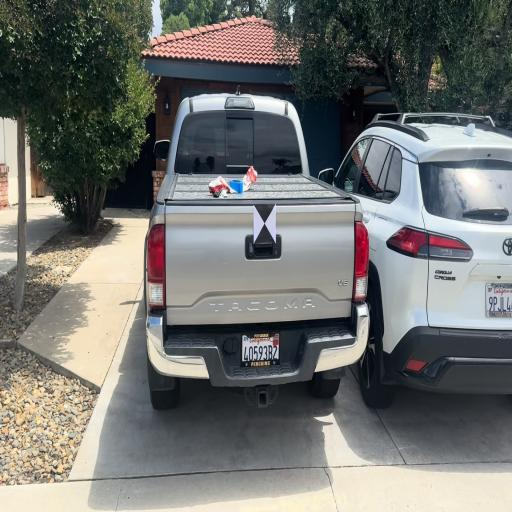target: (254, 202, 276, 244)
